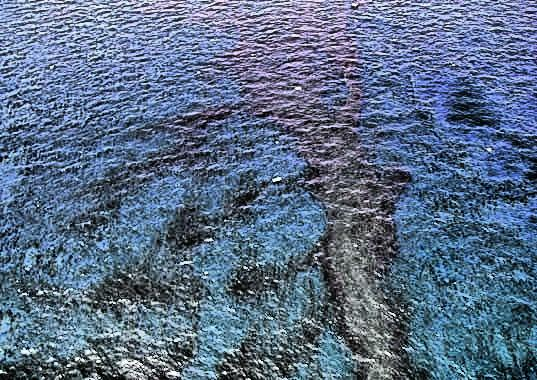truecolor: (226, 2, 410, 380)
